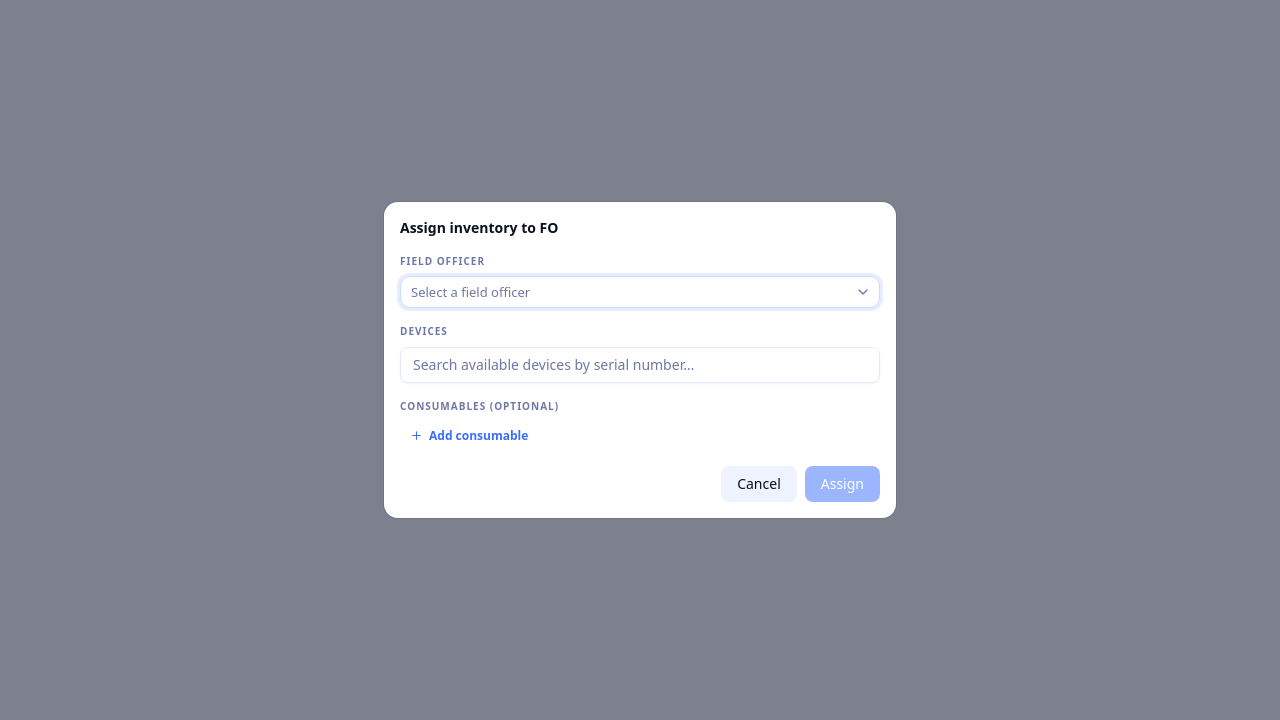
Test case: DirectAssignmentModal › an incomplete consumable line (no quantity) keeps submit disabled even with an FO and a device picked
Click the dropdown at {"x": 471, "y": 292}, box [400,276,880,308]
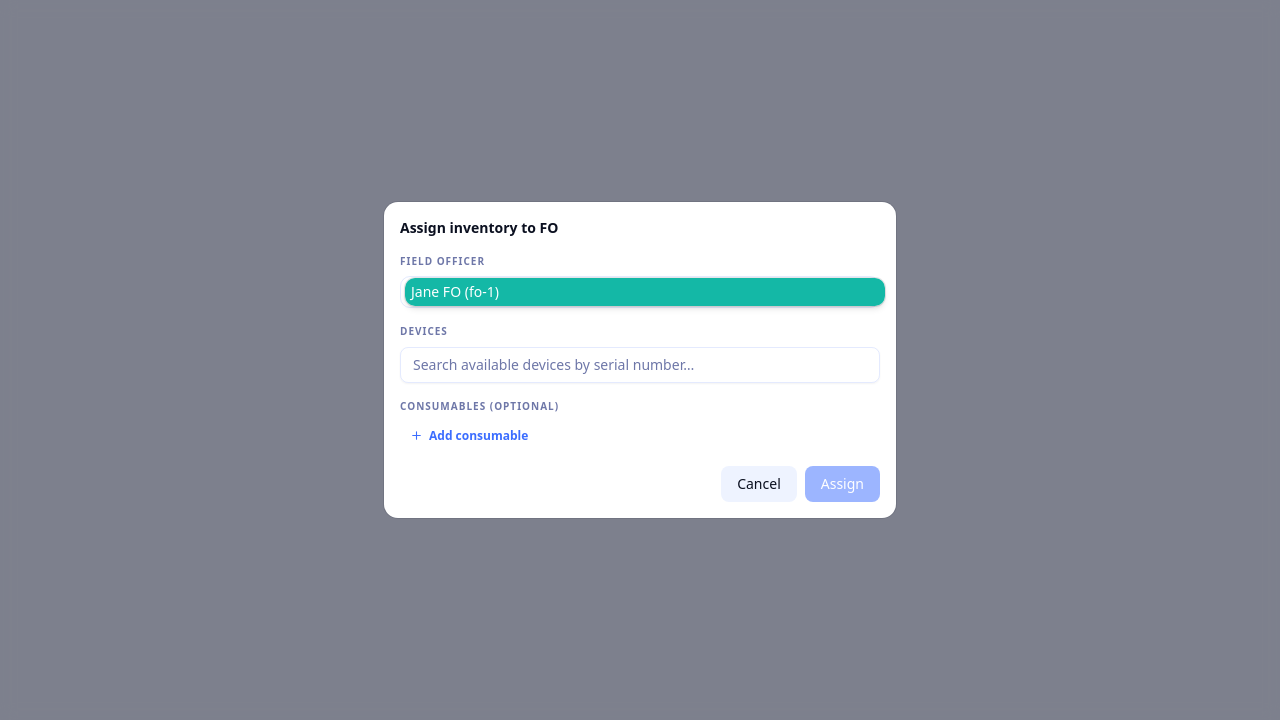
Click the option "Jane FO (fo-1)" at {"x": 436, "y": 292}, box [405,278,885,306]
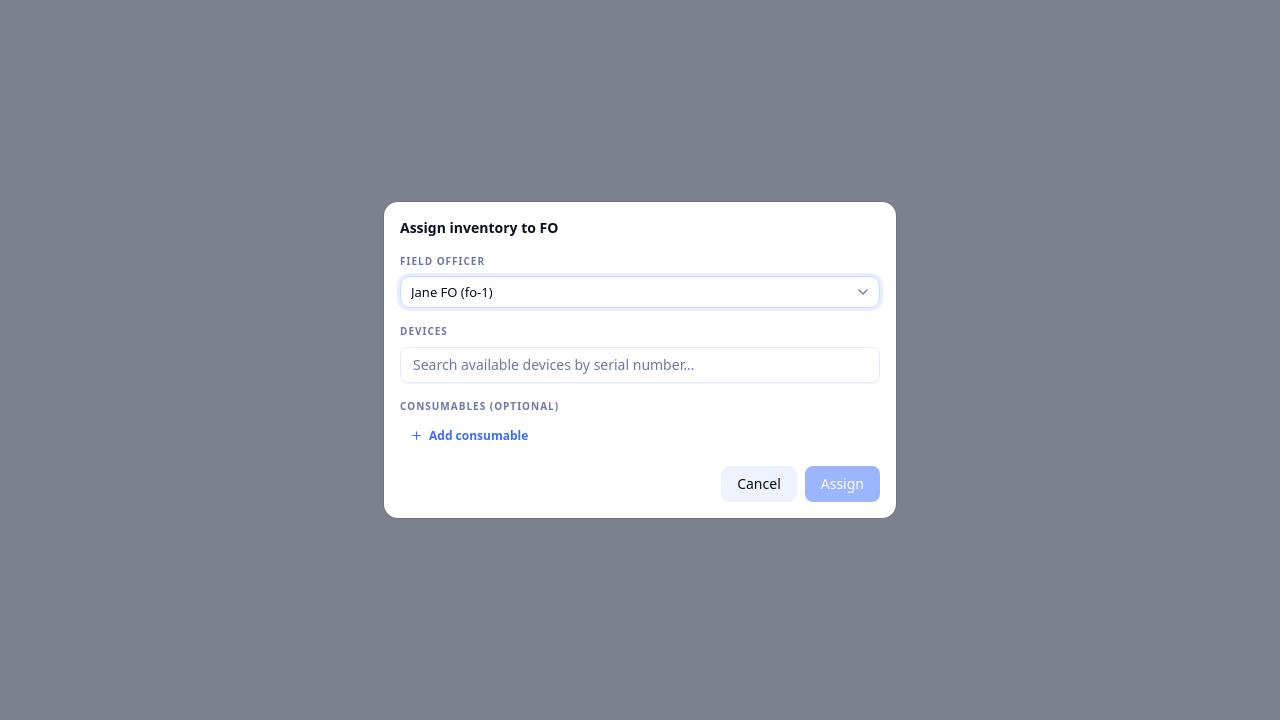
Type "SN" into the field with placeholder "Search available devices by serial number…" at {"x": 640, "y": 365}, box [400,347,880,383]
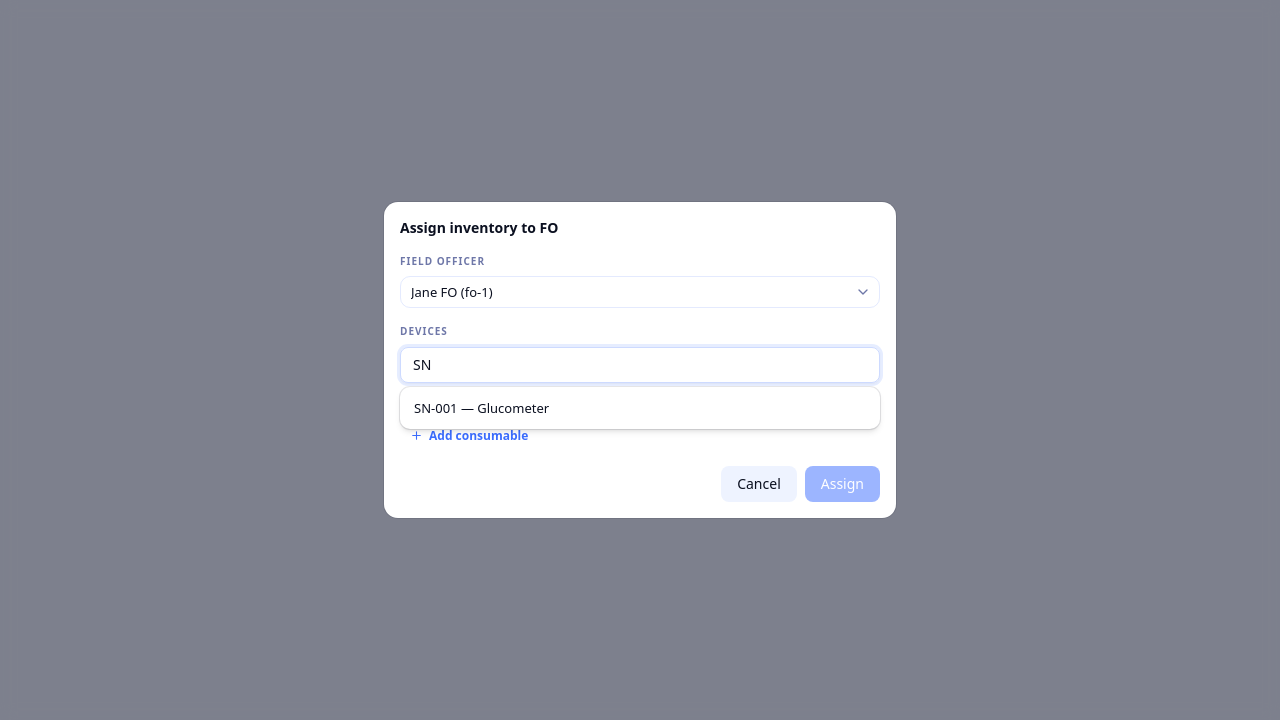
Click the button "SN-001 — Glucometer" at {"x": 482, "y": 408}, box [406,393,874,423]
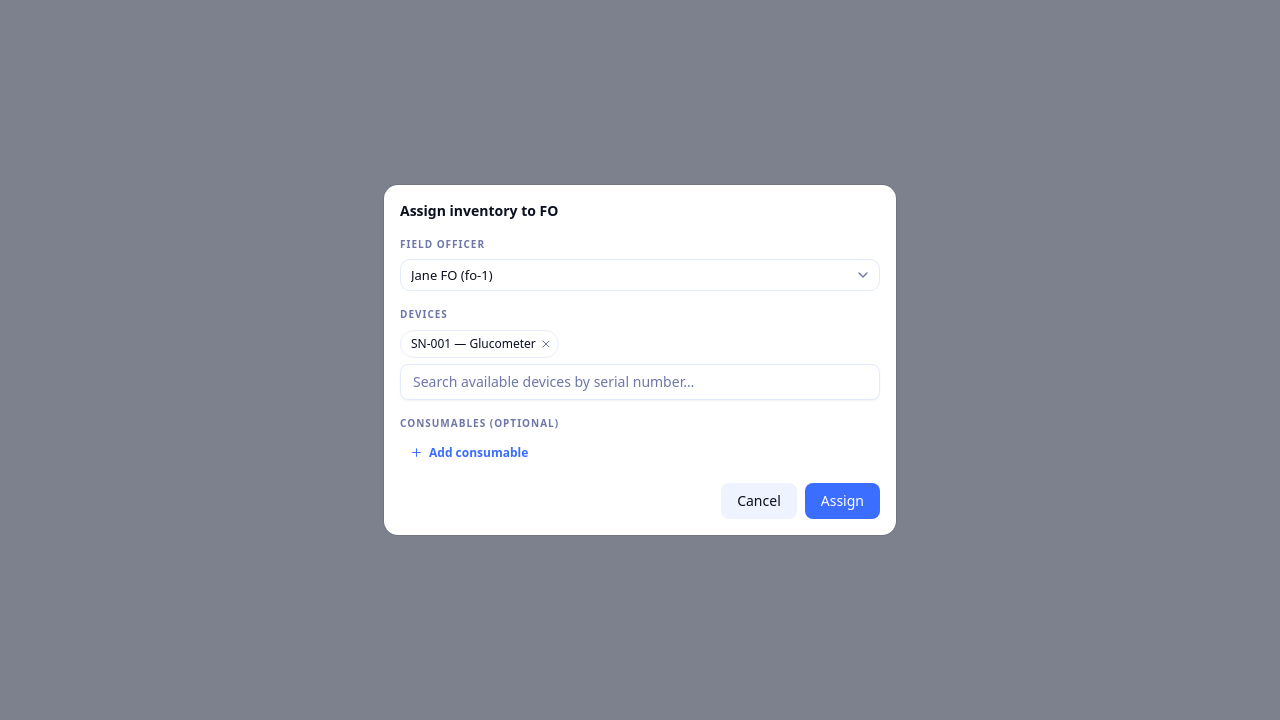
Click the button "Add consumable" at {"x": 469, "y": 452}, box [400,438,538,467]
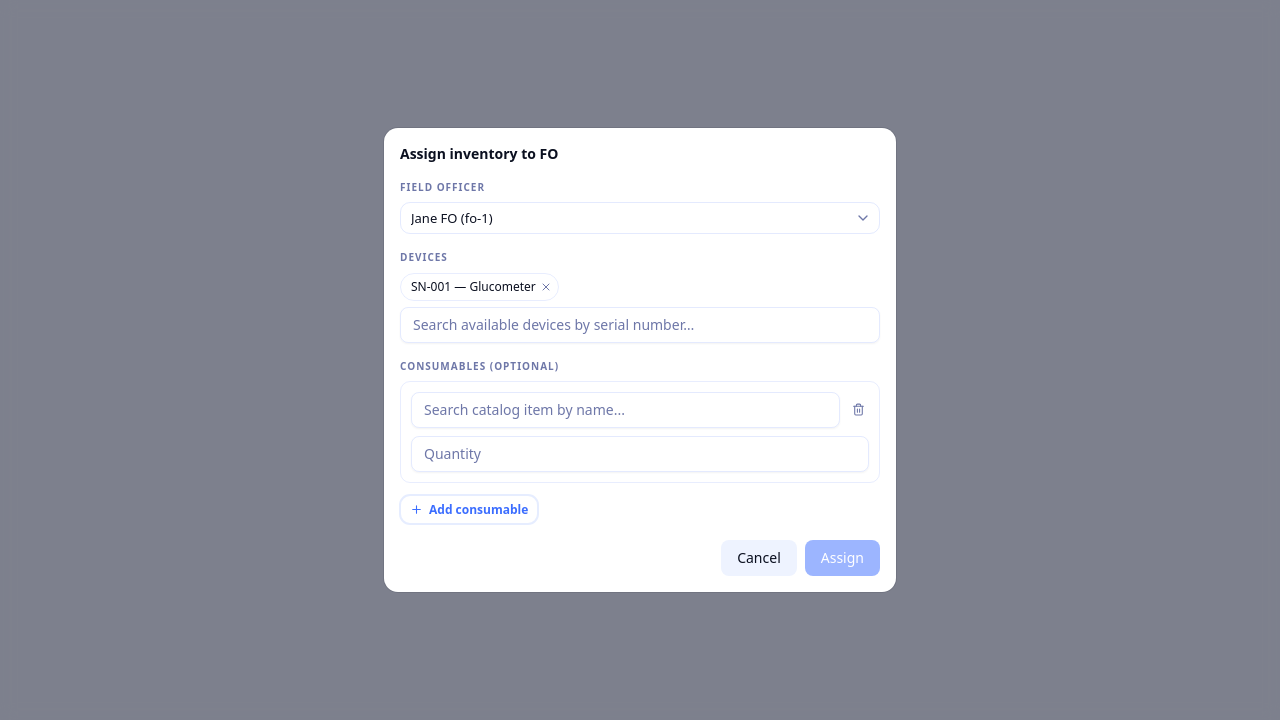
expect the button "Assign" is disabled: met, box [805,540,880,576]
